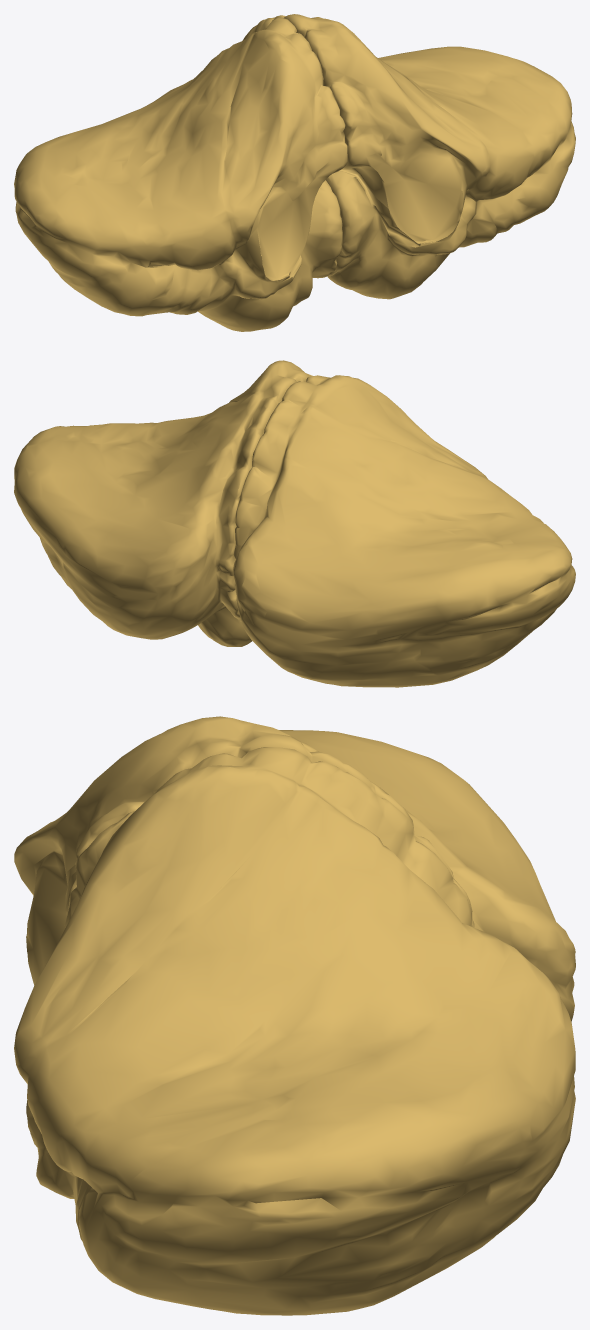
The model's file is cerebellum.glb.
3 renders of one model, top to bottom at view 1: azimuth 30°, elevation 25°; view 2: azimuth 150°, elevation 25°; view 3: azimuth 270°, elevation 25°, orthographic. The views are drawn at different scales.
Parts seen in each view (by area): view 1: cerebellum; view 2: cerebellum; view 3: cerebellum.
Boxes of the visible parts, x1,y1,x2,y2 form: cerebellum: [14, 14, 575, 331]; cerebellum: [14, 360, 575, 687]; cerebellum: [14, 716, 575, 1315].
Size of the model in its own units: 0.1065 by 0.0532 by 0.0562.
